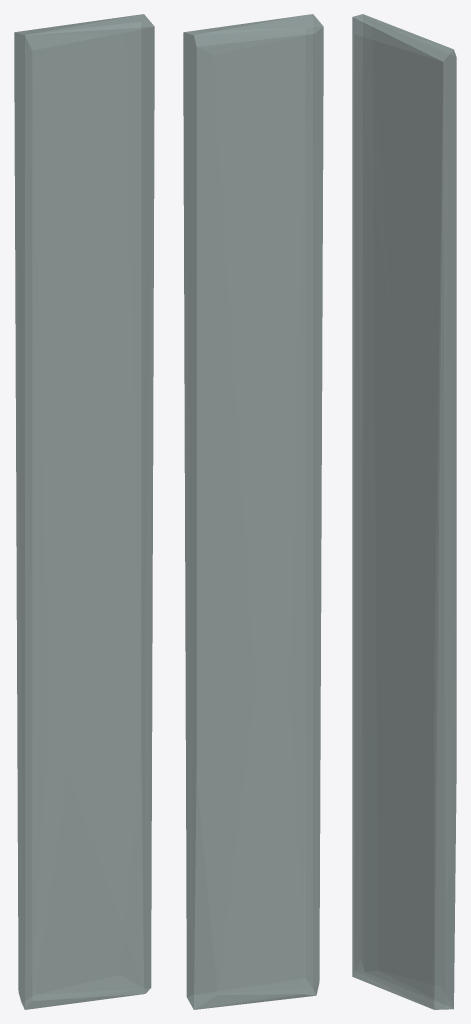
3 views of the same model, side by side, from view 1: azimuth 30°, elevation 25°; view 2: azimuth 210°, elevation 25°; view 3: azimuth 330°, elevation 25° (orthographic).
Parts seen in each view (by area): view 1: Shape_IndexedFaceSet.010_Shape_IndexedFaceSet.8609; view 2: Shape_IndexedFaceSet.010_Shape_IndexedFaceSet.8609; view 3: Shape_IndexedFaceSet.010_Shape_IndexedFaceSet.8609.
Part boxes in pixels (x1,y1,x2,y2): Shape_IndexedFaceSet.010_Shape_IndexedFaceSet.8609: (14,14,154,1009); Shape_IndexedFaceSet.010_Shape_IndexedFaceSet.8609: (183,14,323,1009); Shape_IndexedFaceSet.010_Shape_IndexedFaceSet.8609: (352,14,456,1009).
Size of the model in its own units: 0.1202 by 1.01 by 0.0551.
